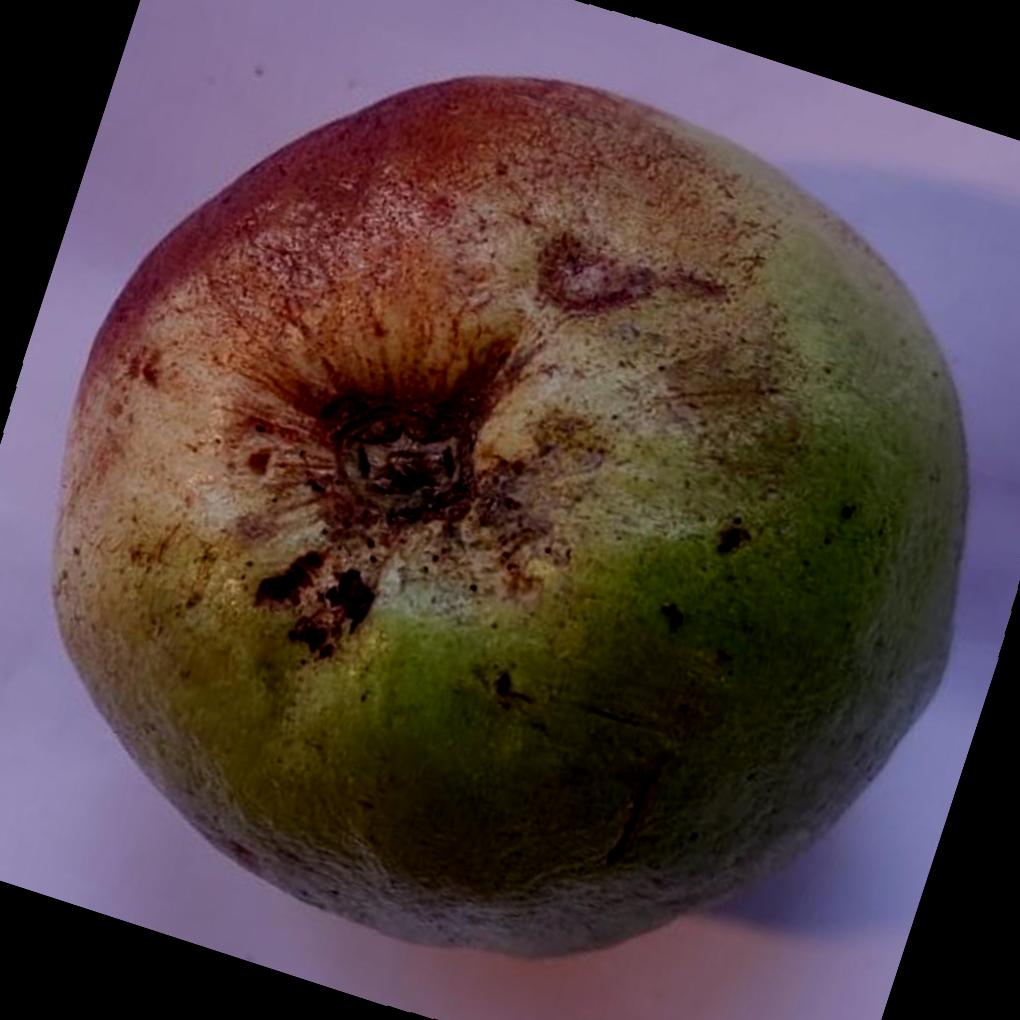FreshOrange: (52, 74, 974, 961)
